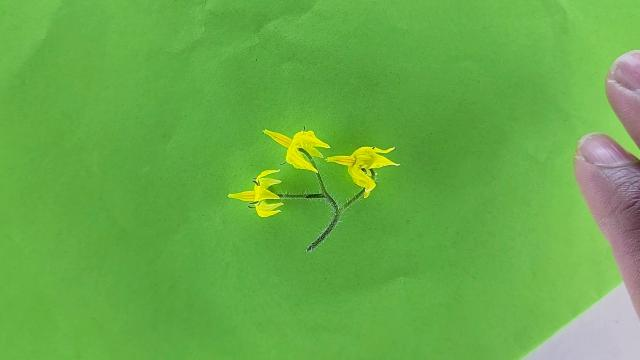Anthesis: (324, 144, 402, 198), (262, 126, 332, 175), (226, 168, 286, 218)
